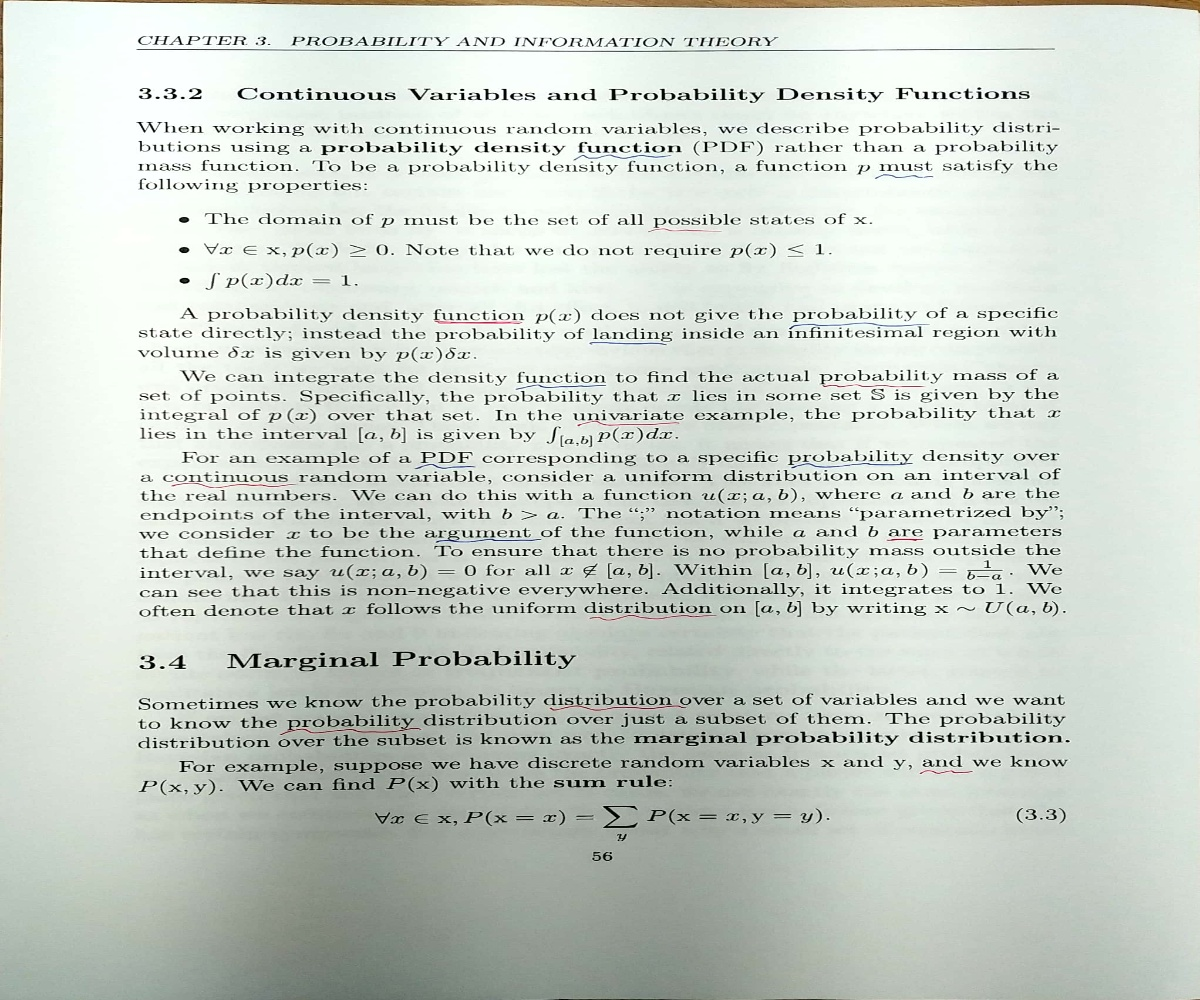underline: (168, 479, 298, 492), (786, 319, 931, 330), (587, 612, 718, 624), (433, 536, 542, 549), (787, 460, 913, 470), (278, 728, 425, 736), (645, 224, 725, 237), (432, 316, 523, 327), (544, 704, 687, 711), (572, 151, 671, 161), (574, 419, 680, 428), (817, 381, 931, 389), (512, 382, 608, 391), (913, 766, 978, 779), (589, 338, 670, 348), (407, 461, 480, 472), (873, 172, 934, 184), (885, 533, 924, 544)
